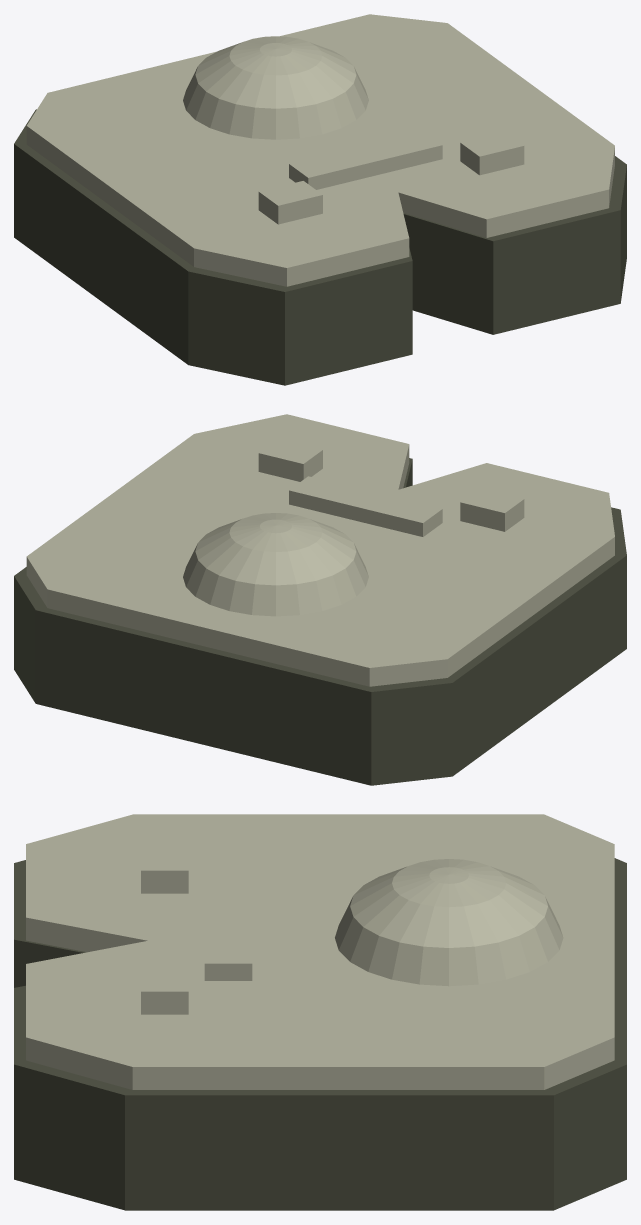
File: vge_mech_aux_processor_b.obj
3 renders of one model, top to bottom at view 1: azimuth 30°, elevation 25°; view 2: azimuth 150°, elevation 25°; view 3: azimuth 270°, elevation 25°, orthographic. The views are drawn at different scales.
Parts seen in each view (by area): view 1: vge_mech_aux_processor_b_1, vge_mech_aux_processor_b_0, vge_mech_aux_processor_b_5, vge_mech_aux_processor_b_2, vge_mech_aux_processor_b_4, vge_mech_aux_processor_b_3; view 2: vge_mech_aux_processor_b_1, vge_mech_aux_processor_b_0, vge_mech_aux_processor_b_5, vge_mech_aux_processor_b_2, vge_mech_aux_processor_b_3, vge_mech_aux_processor_b_4; view 3: vge_mech_aux_processor_b_1, vge_mech_aux_processor_b_0, vge_mech_aux_processor_b_5, vge_mech_aux_processor_b_2, vge_mech_aux_processor_b_4, vge_mech_aux_processor_b_3.
Boxes of the visible parts, x1,y1,x2,y2 form: vge_mech_aux_processor_b_1: (26,14,614,286); vge_mech_aux_processor_b_0: (14,109,626,385); vge_mech_aux_processor_b_5: (183,36,368,139); vge_mech_aux_processor_b_2: (289,131,442,189); vge_mech_aux_processor_b_4: (460,131,524,175); vge_mech_aux_processor_b_3: (258,181,322,224); vge_mech_aux_processor_b_1: (26,414,614,686); vge_mech_aux_processor_b_0: (14,458,626,785); vge_mech_aux_processor_b_5: (183,513,368,616); vge_mech_aux_processor_b_2: (289,476,442,536); vge_mech_aux_processor_b_3: (460,488,524,531); vge_mech_aux_processor_b_4: (258,439,322,481); vge_mech_aux_processor_b_1: (26,814,614,1089); vge_mech_aux_processor_b_0: (14,858,626,1210); vge_mech_aux_processor_b_5: (335,859,563,986); vge_mech_aux_processor_b_2: (204,883,252,980); vge_mech_aux_processor_b_4: (141,964,188,1014); vge_mech_aux_processor_b_3: (141,844,188,893).
Bounding box in the file's own units: 1.96 × 0.71 × 1.93.
